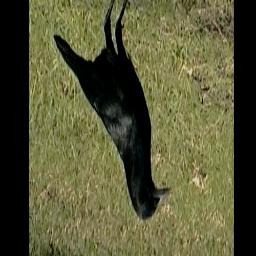Crow: (53, 0, 172, 220)
